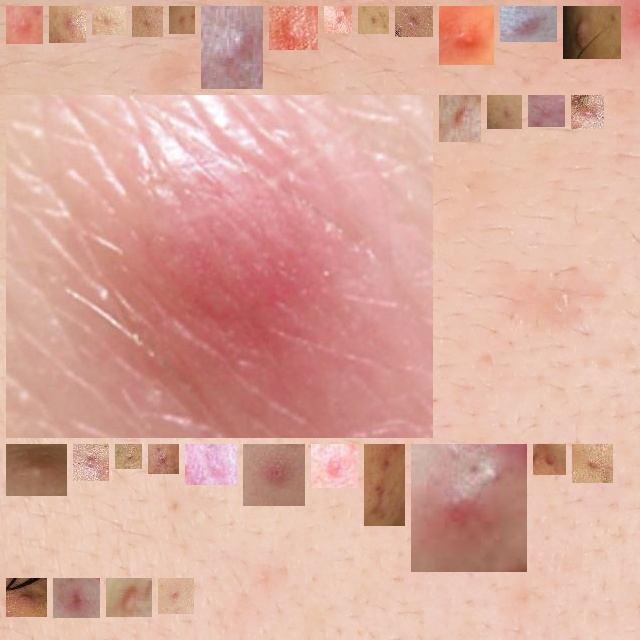papule: (14, 103, 425, 430), (419, 452, 519, 564), (209, 14, 255, 81), (251, 452, 297, 498), (447, 14, 486, 57), (372, 452, 397, 518), (14, 452, 59, 488), (571, 14, 613, 51), (277, 14, 310, 42), (193, 452, 229, 477), (319, 452, 350, 480), (508, 14, 549, 34), (447, 103, 473, 134), (61, 586, 92, 610), (114, 586, 144, 609), (580, 452, 605, 475), (14, 586, 39, 609), (14, 14, 35, 36), (57, 14, 78, 35), (81, 452, 101, 473), (166, 586, 186, 606), (495, 103, 514, 121), (536, 103, 557, 119), (403, 14, 425, 29), (579, 103, 596, 121), (541, 452, 558, 467), (100, 14, 118, 27), (140, 14, 155, 29), (156, 452, 171, 466), (366, 14, 381, 26), (332, 14, 344, 25), (177, 14, 187, 26), (123, 452, 134, 461)
